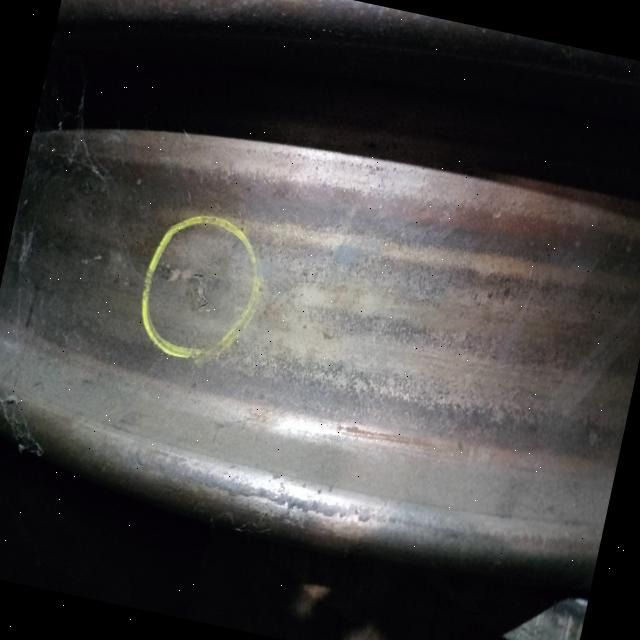Blue hole: (156, 243, 229, 321)
